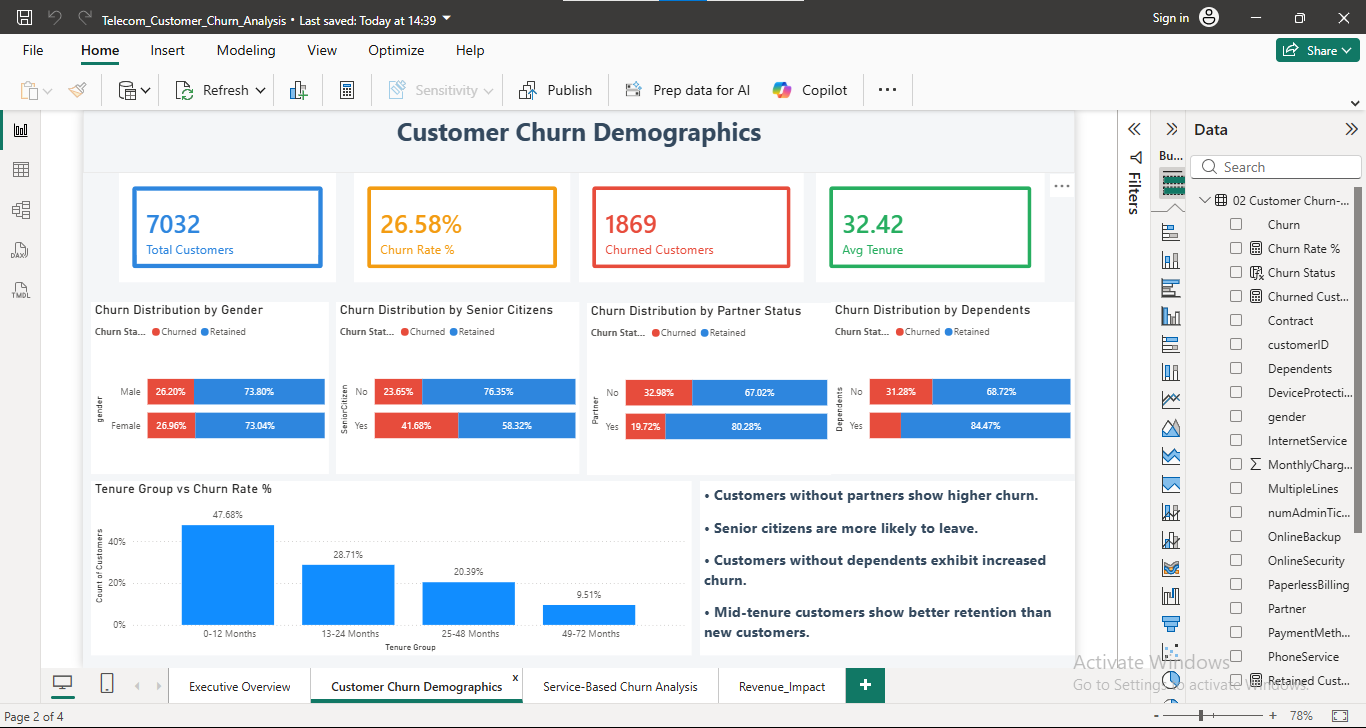

This screenshot's page, from the dashboard's own definition file:
{"tool":"powerbi","page":{"name":"Customer Churn Demographics","canvas":[1280,720],"ordinal":1},"visuals":[{"type":"cardVisual","fields":{"Data":["WA_Fn-UseC_-Telco-Customer-Churn.Total Customers"]},"box":[46.1,81,280.4,140.8],"z":0},{"type":"cardVisual","fields":{"Data":["Parameter.Avg Tenure"]},"box":[945.8,81,295.3,140.8],"z":1000},{"type":"cardVisual","fields":{"Data":["WA_Fn-UseC_-Telco-Customer-Churn.Churn Rate %"]},"box":[350.2,81,279.1,140.8],"z":2000},{"type":"hundredPercentStackedBarChart","title":"Churn Distribution by Gender","fields":{"Category":["WA_Fn-UseC_-Telco-Customer-Churn.gender"],"Series":["WA_Fn-UseC_-Telco-Customer-Churn.Churn Status"],"Y":["CountNonNull(WA_Fn-UseC_-Telco-Customer-Churn.customerID)"]},"box":[10,248,306.5,221.8],"z":3000},{"type":"hundredPercentStackedBarChart","title":"Churn Distribution by Senior Citizens","fields":{"Category":["WA_Fn-UseC_-Telco-Customer-Churn.SeniorCitizen"],"Series":["WA_Fn-UseC_-Telco-Customer-Churn.Churn Status"],"Y":["CountNonNull(WA_Fn-UseC_-Telco-Customer-Churn.customerID)"]},"box":[326.5,248,314,221.8],"z":4000},{"type":"hundredPercentStackedBarChart","title":"Churn Distribution by Partner Status","fields":{"Category":["WA_Fn-UseC_-Telco-Customer-Churn.Partner"],"Series":["WA_Fn-UseC_-Telco-Customer-Churn.Churn Status"],"Y":["CountNonNull(WA_Fn-UseC_-Telco-Customer-Churn.customerID)"]},"box":[650.5,249.2,315.3,221.8],"z":5000},{"type":"hundredPercentStackedBarChart","title":"Churn Distribution by Dependents","fields":{"Category":["WA_Fn-UseC_-Telco-Customer-Churn.Dependents"],"Series":["WA_Fn-UseC_-Telco-Customer-Churn.Churn Status"],"Y":["CountNonNull(WA_Fn-UseC_-Telco-Customer-Churn.customerID)"]},"box":[965.7,248,314,221.8],"z":6000},{"type":"clusteredColumnChart","title":"Tenure Group vs Churn Rate %","fields":{"Category":["WA_Fn-UseC_-Telco-Customer-Churn.Tenure Group"],"Y":["WA_Fn-UseC_-Telco-Customer-Churn.Churn Rate %"]},"box":[9.9,479.1,774.6,224.7],"z":7000},{"type":"cardVisual","fields":{"Data":["WA_Fn-UseC_-Telco-Customer-Churn.Churned Customers"]},"box":[640.5,81,290.3,140.8],"z":8000},{"type":"textbox","box":[795.7,479.1,484.1,224.7],"z":9000},{"type":"textbox","box":[0,0,1279.8,80.7],"z":10000}]}

Visuals, with their boxes on the page's 1280x720 design canvas (x1, y1, x2, y2). These are canvas units, not pixel positions in the 1366x728 screenshot, which may show the page scaled, cropped or inside an application window:
cardVisual - WA_Fn-UseC_-Telco-Customer-Churn.Total Customers: (left=46, top=81, right=326, bottom=222)
cardVisual - Parameter.Avg Tenure: (left=946, top=81, right=1241, bottom=222)
cardVisual - WA_Fn-UseC_-Telco-Customer-Churn.Churn Rate %: (left=350, top=81, right=629, bottom=222)
"Churn Distribution by Gender" hundredPercentStackedBarChart: (left=10, top=248, right=316, bottom=470)
"Churn Distribution by Senior Citizens" hundredPercentStackedBarChart: (left=326, top=248, right=640, bottom=470)
"Churn Distribution by Partner Status" hundredPercentStackedBarChart: (left=650, top=249, right=966, bottom=471)
"Churn Distribution by Dependents" hundredPercentStackedBarChart: (left=966, top=248, right=1280, bottom=470)
"Tenure Group vs Churn Rate %" clusteredColumnChart: (left=10, top=479, right=784, bottom=704)
cardVisual - WA_Fn-UseC_-Telco-Customer-Churn.Churned Customers: (left=640, top=81, right=931, bottom=222)
textbox: (left=796, top=479, right=1280, bottom=704)
textbox: (left=0, top=0, right=1280, bottom=81)
